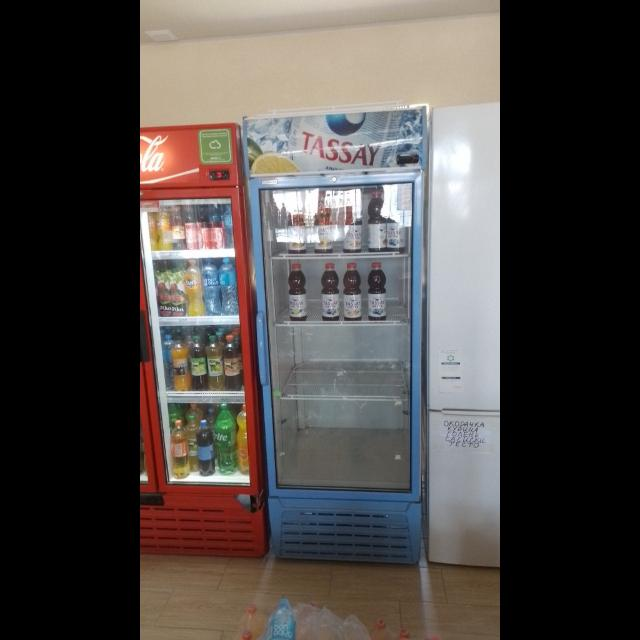Cooling-Display: (242, 104, 428, 562)
